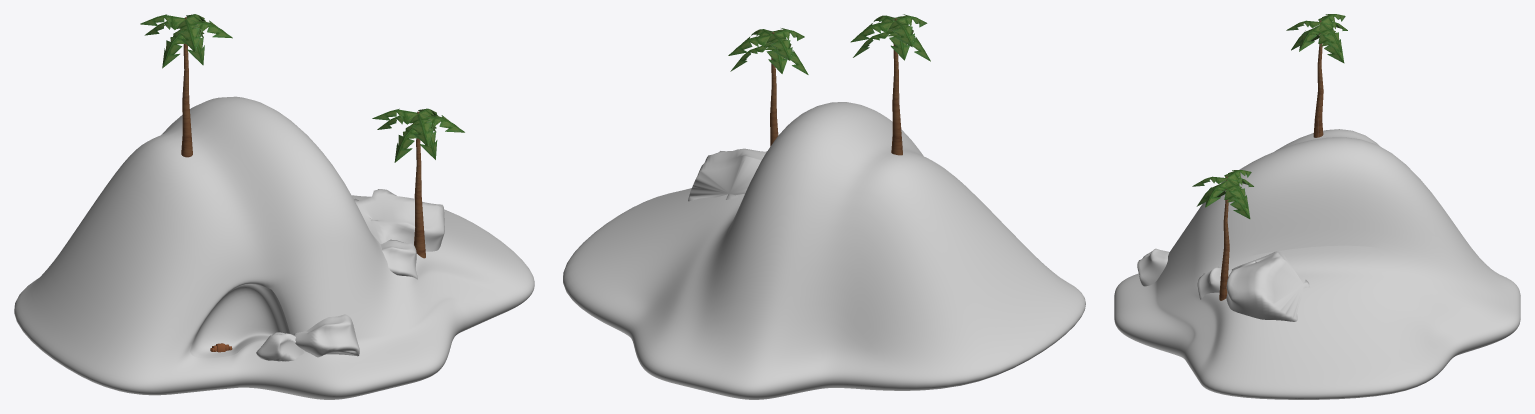
File: small island.fbx
3 renders of one model, left to right at view 1: azimuth 30°, elevation 25°; view 2: azimuth 150°, elevation 25°; view 3: azimuth 270°, elevation 25°, orthographic. The views are drawn at different scales.
Parts seen in each view (by area): view 1: mini isand met cave, Medium rock.025, Trunk.009, Trunk.008, Medium rock.027, Medium rock.026, Medium rock.028; view 2: mini isand met cave, Medium rock.025, Trunk.008, Trunk.009; view 3: mini isand met cave, Medium rock.025, Trunk.009, Trunk.008, Medium rock.027, Medium rock.026.
Part boxes in pixels (box(x1,y1,x2,y2)): mini isand met cave: box(14, 96, 534, 399); Medium rock.025: box(354, 189, 444, 251); Trunk.009: box(372, 108, 464, 258); Trunk.008: box(140, 14, 232, 157); Medium rock.027: box(294, 314, 359, 357); Medium rock.026: box(380, 239, 417, 279); Medium rock.028: box(256, 332, 305, 361); mini isand met cave: box(563, 102, 1085, 399); Medium rock.025: box(688, 148, 766, 201); Trunk.008: box(850, 14, 930, 155); Trunk.009: box(728, 28, 808, 146); mini isand met cave: box(1114, 129, 1520, 399); Medium rock.025: box(1226, 251, 1309, 321); Trunk.009: box(1192, 170, 1253, 300); Trunk.008: box(1286, 14, 1347, 137); Medium rock.027: box(1137, 248, 1169, 286); Medium rock.026: box(1197, 266, 1231, 299).
Size of the model in its own units: 1862 by 1310 by 1707.
